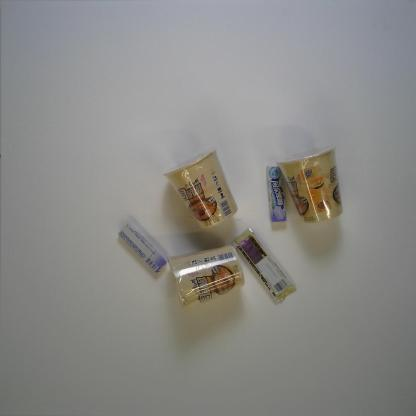Candy: (116, 221, 168, 274), (265, 165, 289, 224)
Chocolate: (230, 227, 297, 304)
Instant Noodles: (162, 146, 238, 230), (274, 143, 344, 225), (166, 243, 246, 310)
